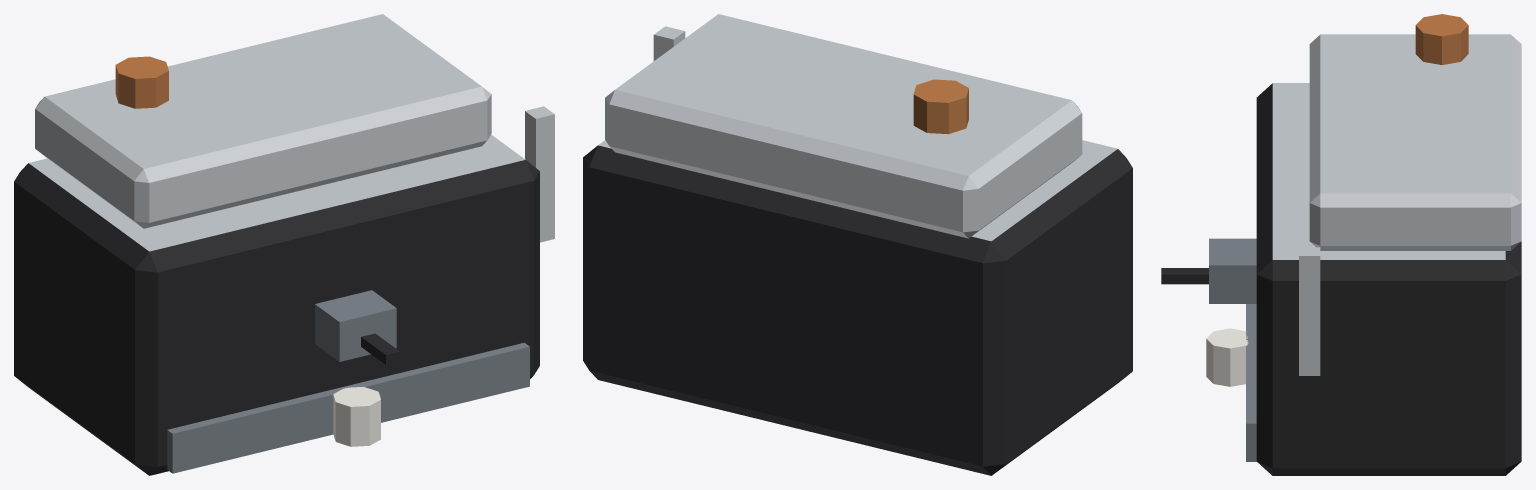
The model's file is espresso_1.fbx.
3 views of the same model, side by side, from view 1: azimuth 30°, elevation 25°; view 2: azimuth 150°, elevation 25°; view 3: azimuth 270°, elevation 25° (orthographic). The views are drawn at different scales.
Visible parts, largest first — view 1: espresso_1; view 2: espresso_1; view 3: espresso_1.
Boxes of the visible parts, x1,y1,x2,y2 form: espresso_1: [14, 14, 554, 475]; espresso_1: [583, 14, 1132, 475]; espresso_1: [1161, 14, 1521, 475].
Size of the model in its own units: 0.91 by 0.65 by 0.68.
